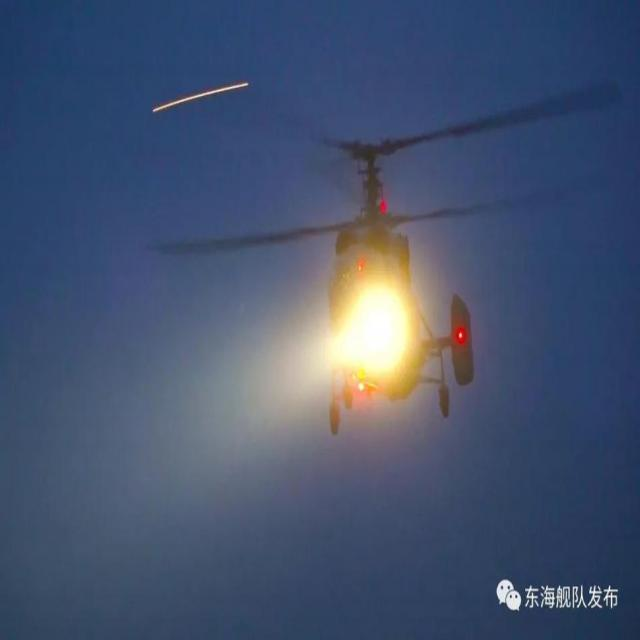MIL_HELO: (143, 88, 640, 448)
